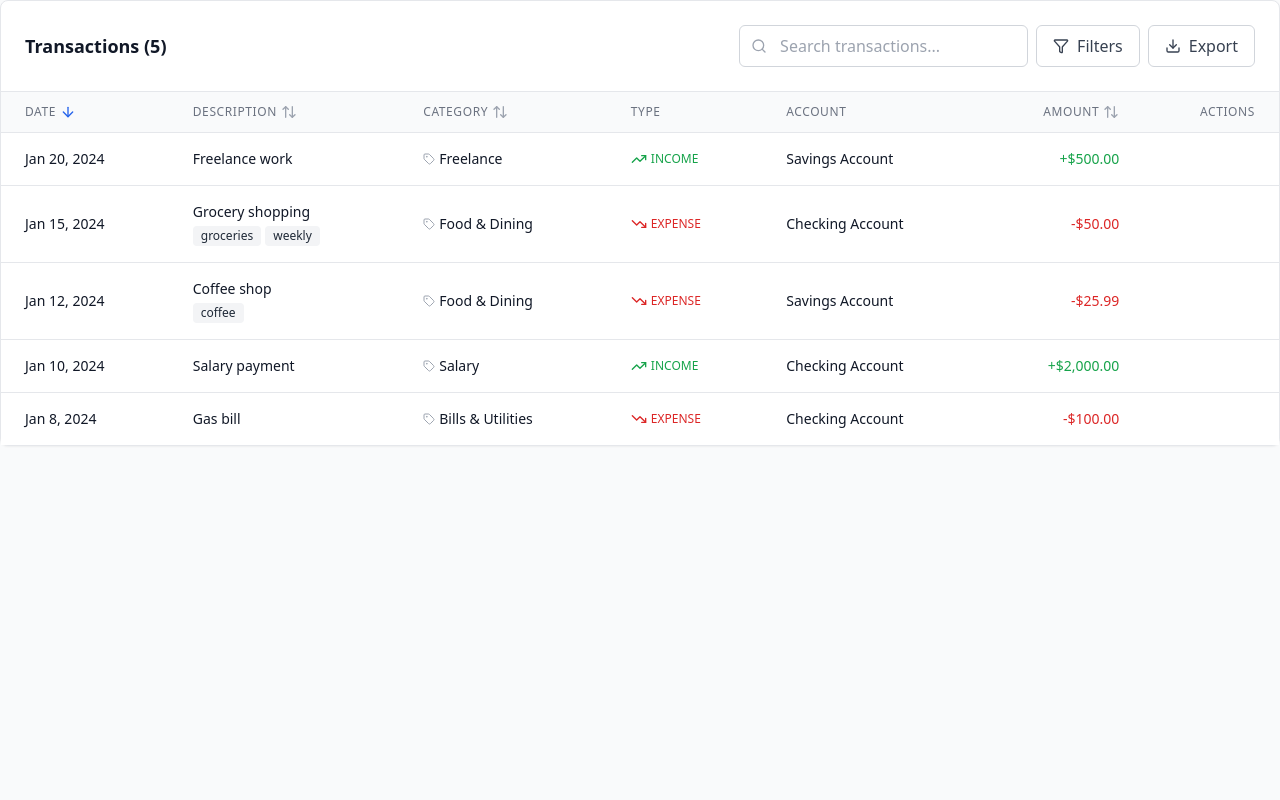
it: TransactionList › Filter Functionality › filters by category
// Show filters
Step 1. Click the button "Filters" → coordinates (1088, 46), box x1=1036 y1=25 x2=1140 y2=67
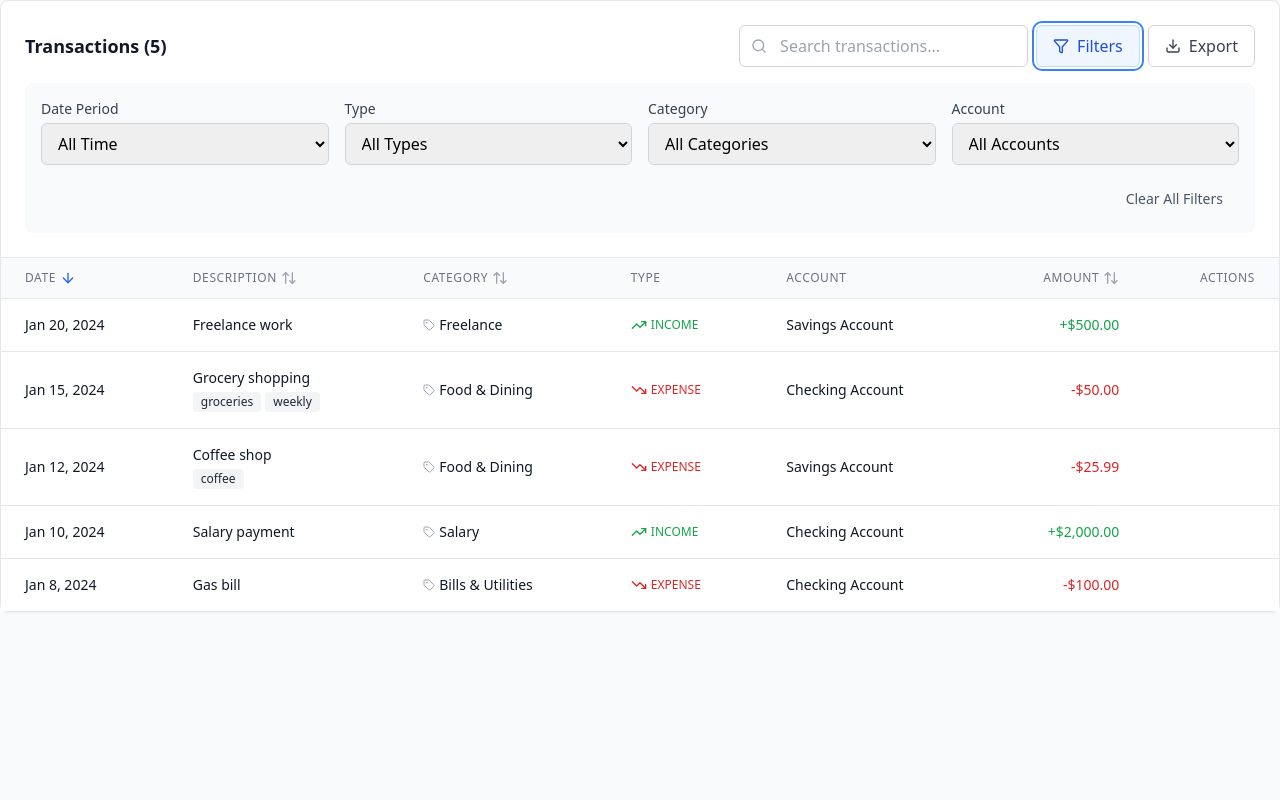
// Filter by Food & Dining category
Step 2. Select "Food & Dining" in the 3rd dropdown showing "All Categories" → coordinates (792, 144), box x1=648 y1=123 x2=936 y2=165
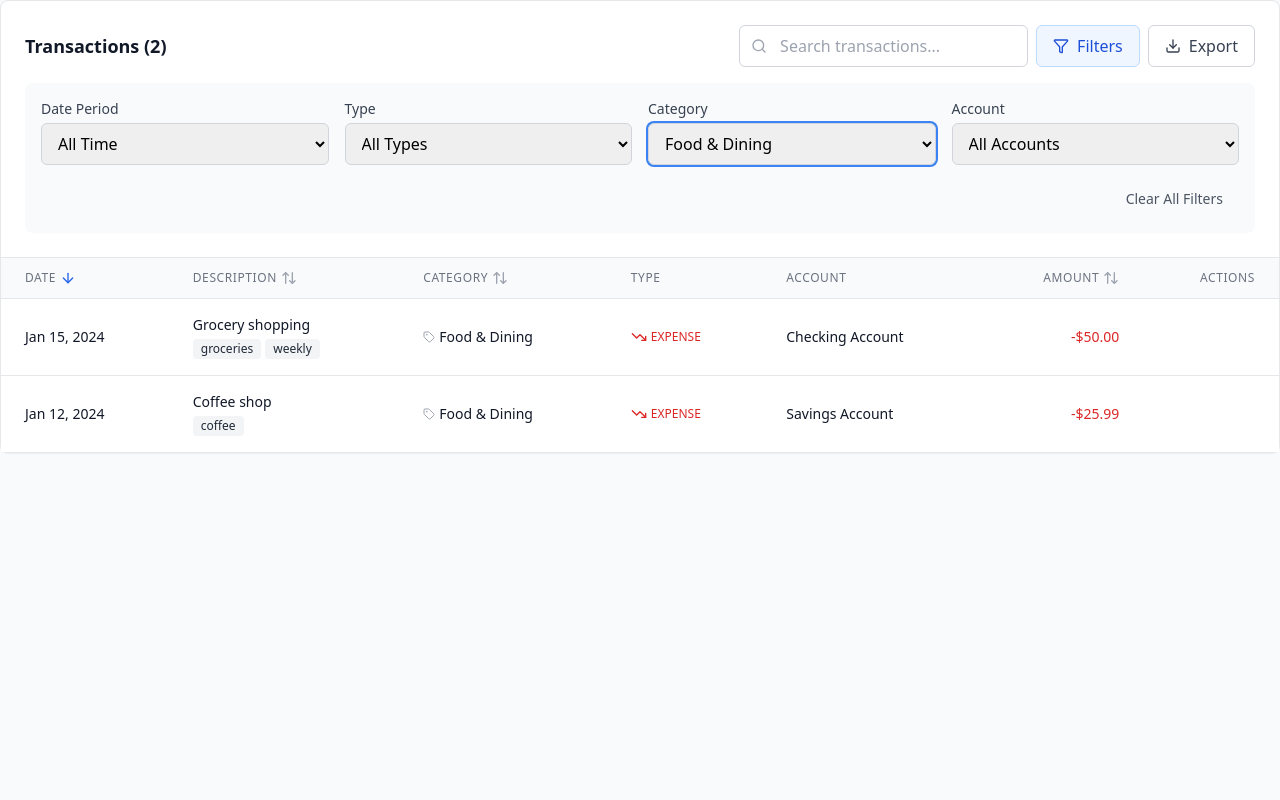
Expected: the text "Grocery shopping" is shown, x1=193 y1=315 x2=310 y2=334
Result: the text "Salary payment" is gone
Result: the heading "Transactions (2)" is shown at x1=25 y1=32 x2=166 y2=60
